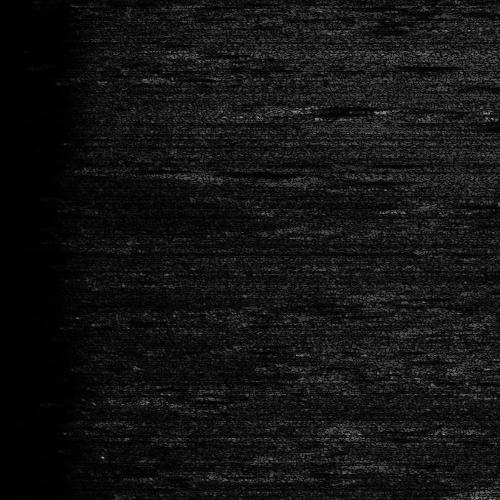rock: (411, 117, 452, 126)
shadow: (432, 117, 465, 126)
